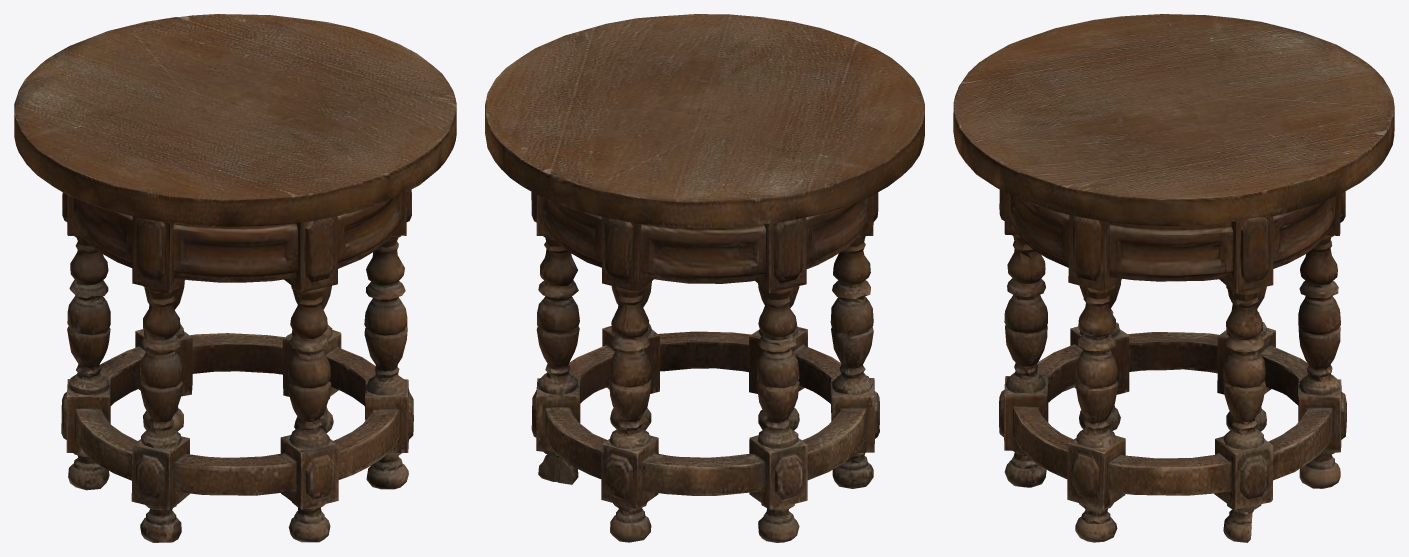
Rendered from table-round-dining.glb.
3 views of the same model, side by side, from view 1: azimuth 30°, elevation 25°; view 2: azimuth 150°, elevation 25°; view 3: azimuth 270°, elevation 25° (orthographic).
Visible parts, largest first — view 1: table-round-dining; view 2: table-round-dining; view 3: table-round-dining.
Boxes of the visible parts, bbox=[...] form: table-round-dining: bbox=[14, 14, 456, 542]; table-round-dining: bbox=[485, 14, 924, 542]; table-round-dining: bbox=[953, 14, 1394, 542].
Bounding box in the file's own units: 0.7842 × 0.74 × 0.7861.
Materials: 1 (1 with a texture image).
